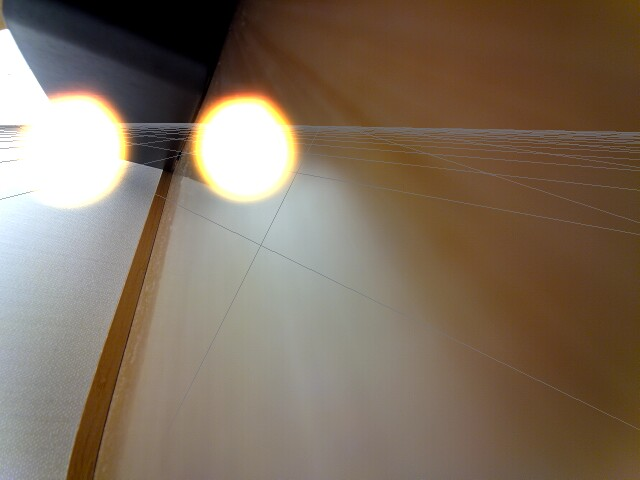firebig: (9, 74, 139, 214)
